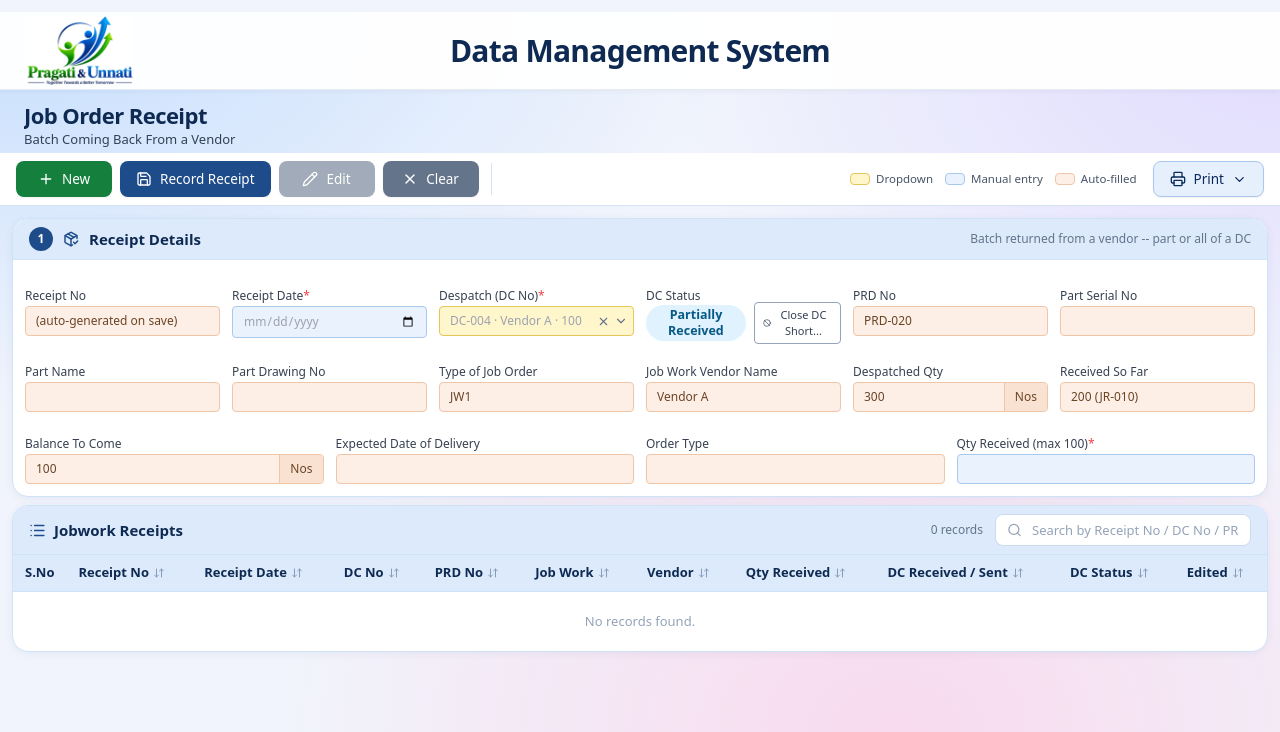
Job Work Receipt -- Close DC Short button › supervisor: button with a DC picked; hidden while a receipt qty is typed
The width and height of the screenshot is (1280, 732).
Expected: the text "Partially Received" is shown, [646,305,746,341]
Expected: the button "Close DC Short..." is shown, [754,302,841,344]
Step 1. Type "50" into the number field → (1106, 469), box [956,454,1255,484]
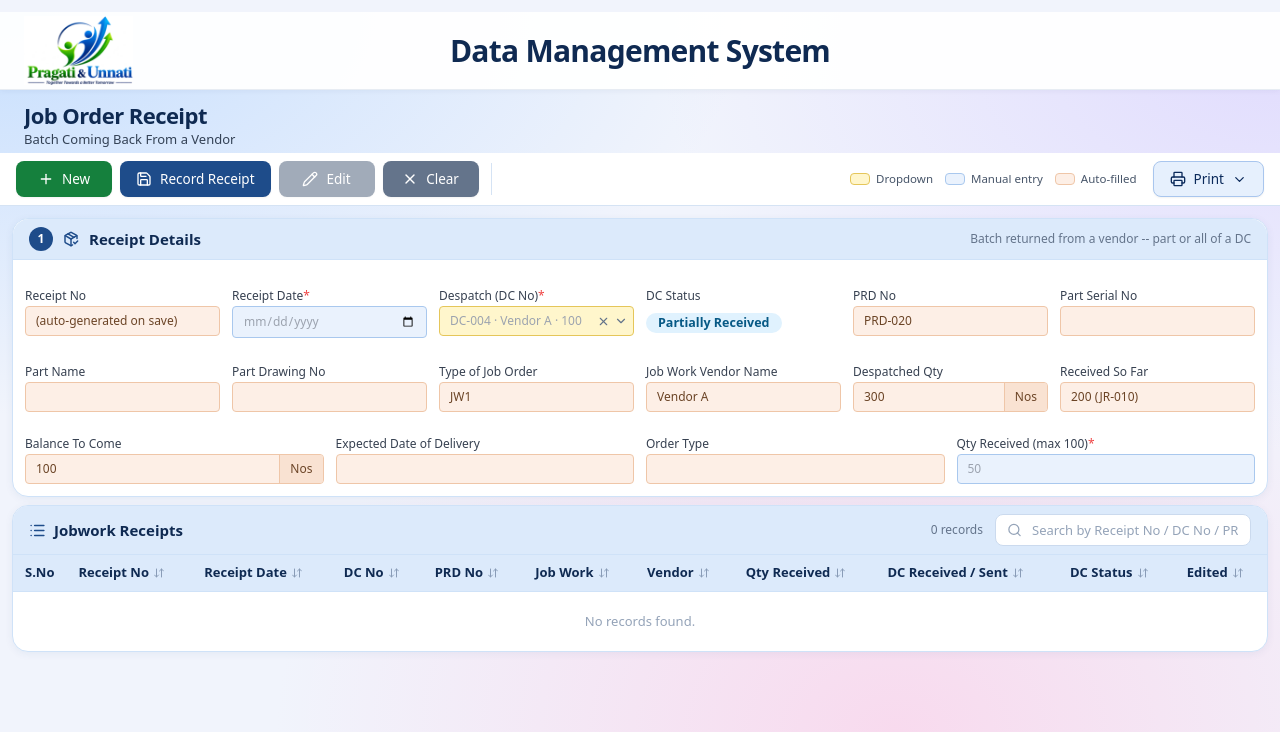
Result: the button "Close DC Short..." is gone
